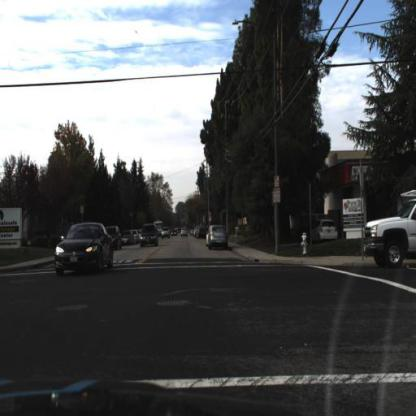car: (357, 184, 416, 272), (49, 215, 117, 280), (314, 213, 341, 245), (205, 223, 232, 254), (139, 220, 162, 251), (120, 228, 136, 249), (160, 227, 174, 244), (180, 226, 194, 242)
